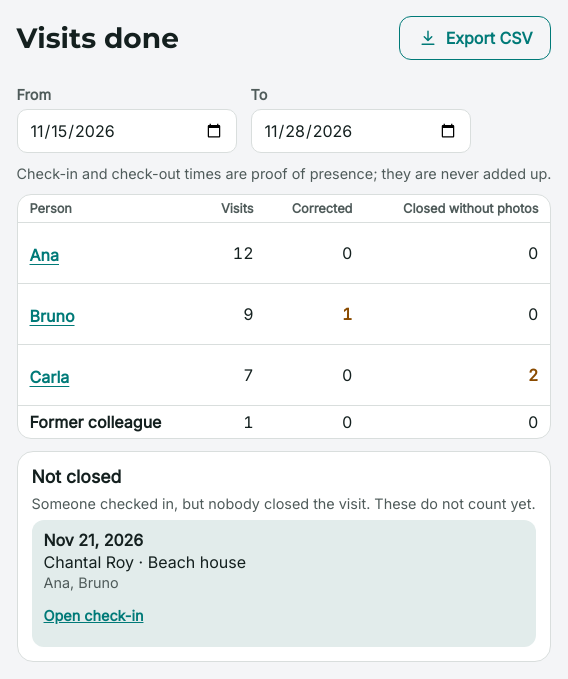
it: the Visits done report › offers the CSV of the range shown, as a plain download link that follows the range
Expected: the table is shown, 18,195 -> 550,438
Type "2026-10-01" into the date field labelled "From" at coordinates (126, 131), box 16,109 -> 236,153
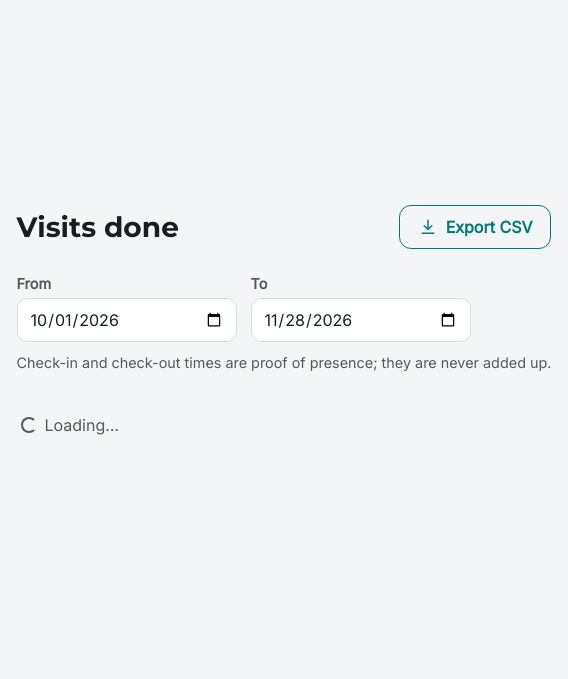
Type "2026-10-31" into the date field labelled "To" at coordinates (360, 320), box 250,298 -> 470,342
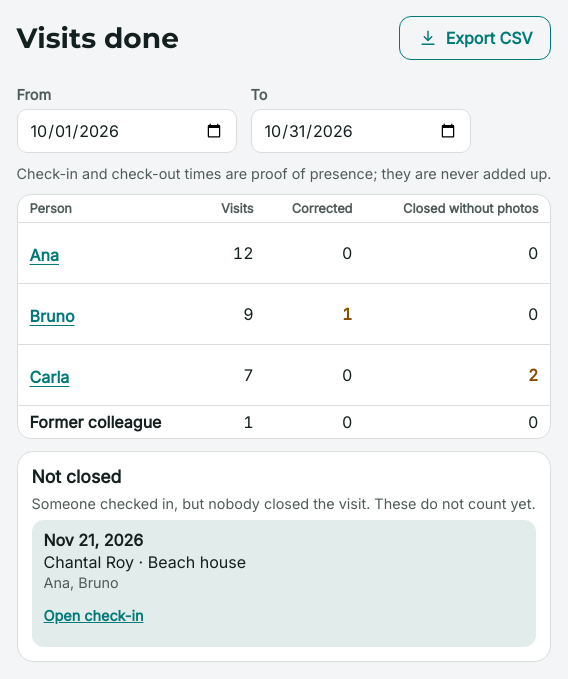
Expected: the link "Export CSV" has attribute href="/api/visits/report.csv?from=2026-10-01&to=2026-10-31", 399,16 -> 552,60
